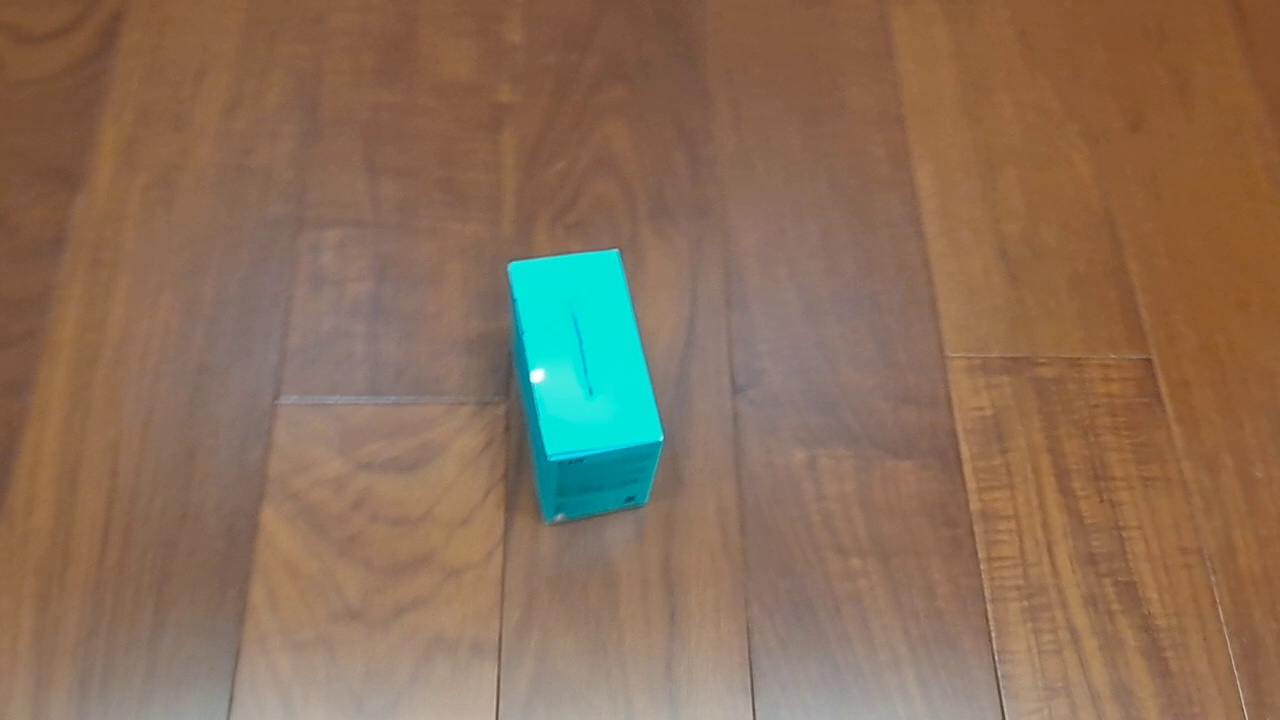webcam: (506, 247, 665, 527)
